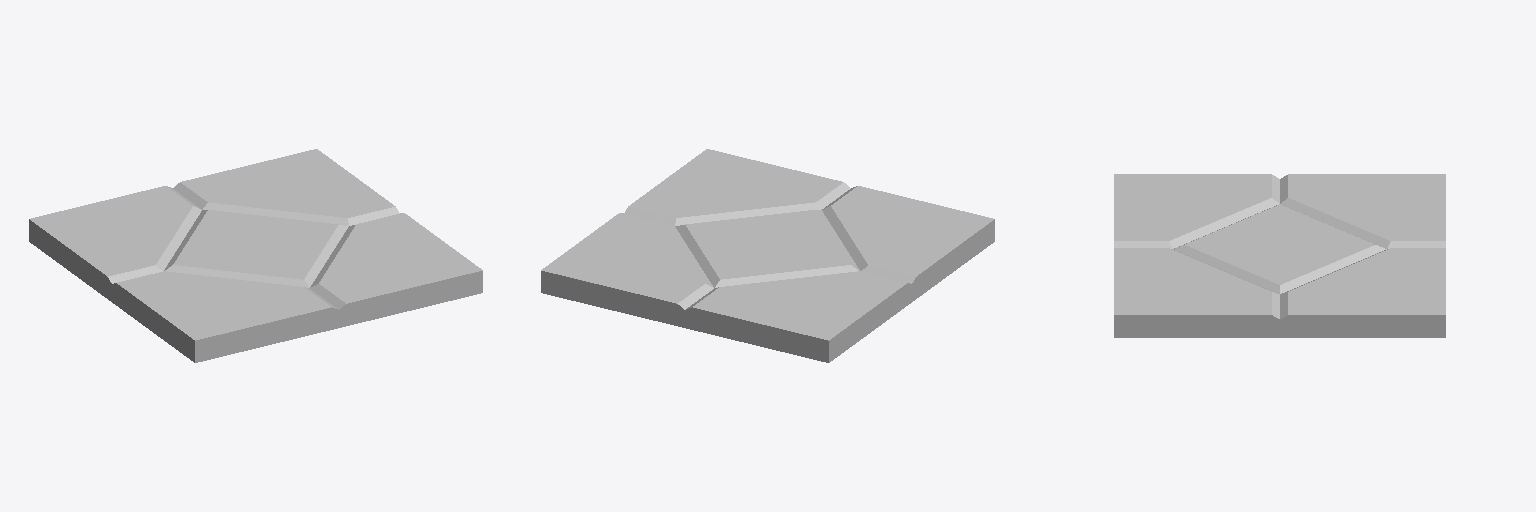
The model's file is floor_tile_small.obj.
3 renders of one model, left to right at view 1: azimuth 30°, elevation 25°; view 2: azimuth 150°, elevation 25°; view 3: azimuth 270°, elevation 25°, orthographic.
Visible parts, largest first — view 1: floor_tile_small_Cube.11129; view 2: floor_tile_small_Cube.11129; view 3: floor_tile_small_Cube.11129.
Part boxes in pixels (left/top/right/bottom): floor_tile_small_Cube.11129: left=29, top=149, right=482, bottom=362; floor_tile_small_Cube.11129: left=541, top=149, right=994, bottom=362; floor_tile_small_Cube.11129: left=1114, top=174, right=1445, bottom=337.
Bounding box in the file's own units: 2 × 0.15 × 2.